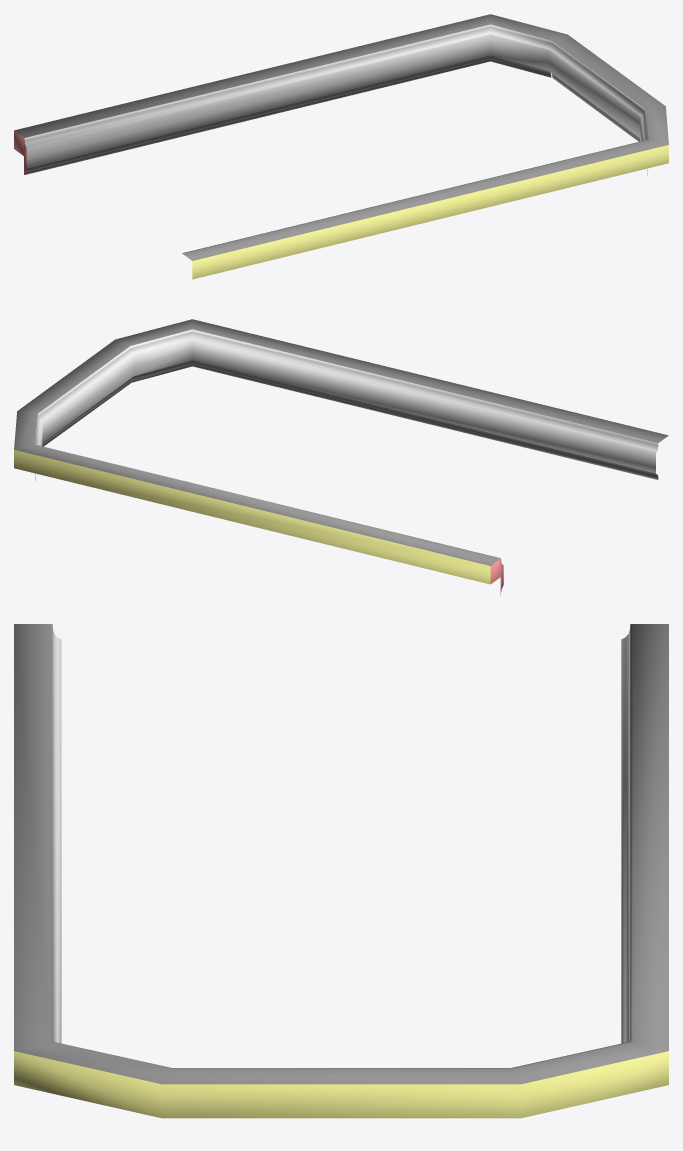
File: wall_deco_13.gltf
3 renders of one model, top to bottom at view 1: azimuth 30°, elevation 25°; view 2: azimuth 150°, elevation 25°; view 3: azimuth 270°, elevation 25°, orthographic. The views are drawn at different scales.
Parts seen in each view (by area): view 1: wall_deco_13; view 2: wall_deco_13; view 3: wall_deco_13.
Part boxes in pixels (x1=…): wall_deco_13: x1=14, y1=14, x2=668, y2=279; wall_deco_13: x1=14, y1=319, x2=668, y2=595; wall_deco_13: x1=14, y1=624, x2=668, y2=1118.
Bounding box in the file's own units: 19.16 × 1.32 × 11.53.
